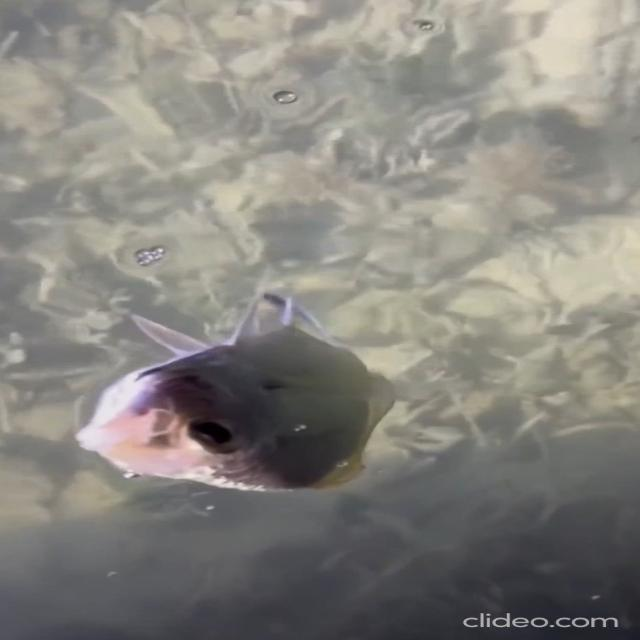fish: (67, 283, 413, 509)
